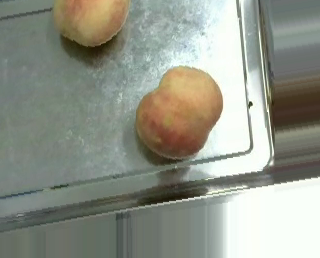Peach: (135, 64, 223, 158), (54, 0, 130, 47)
